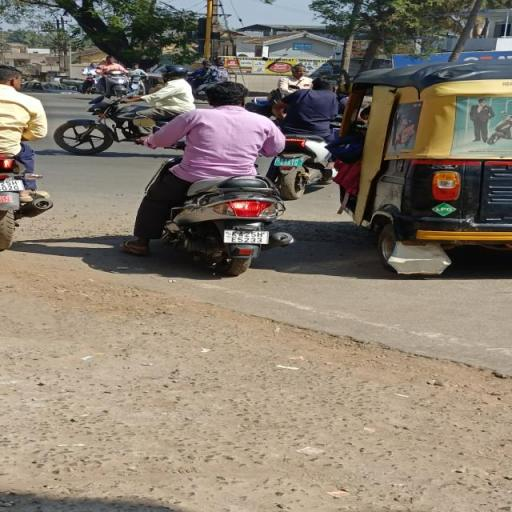bike: (126, 80, 314, 278)
numberplate: (223, 228, 272, 246)
withouthelmet: (210, 83, 248, 106)
